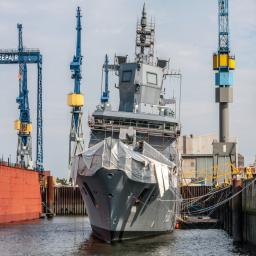Fragata: (71, 1, 186, 250)
